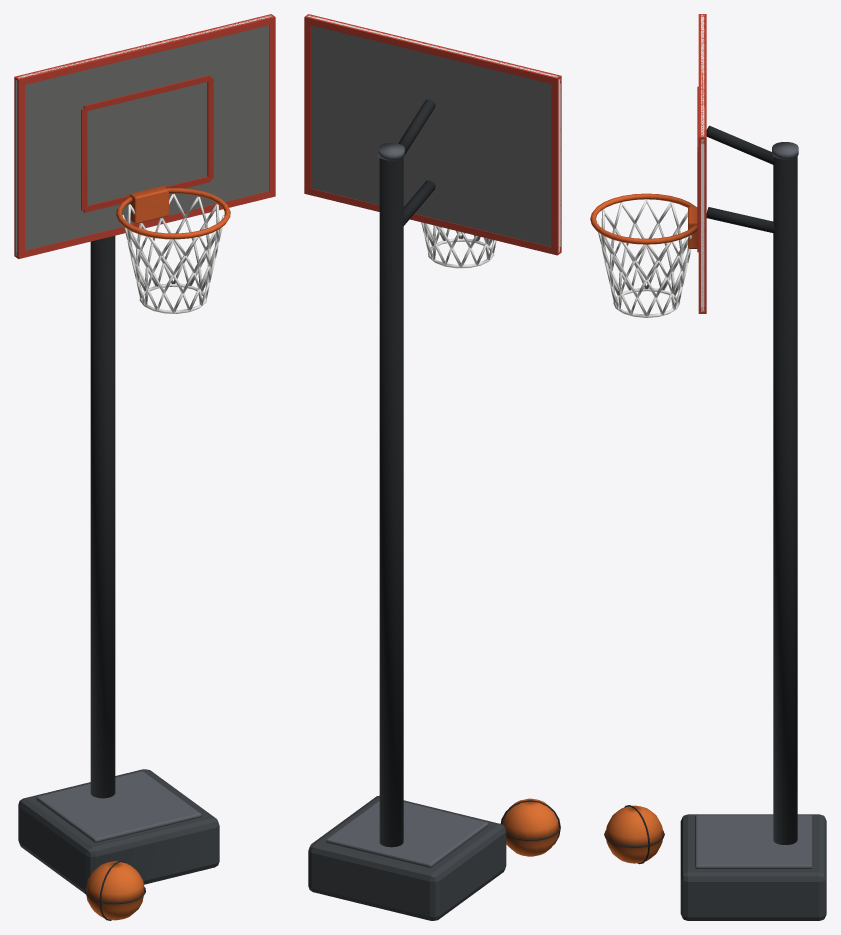
Rendered from basketballHoop.glb.
3 renders of one model, left to right at view 1: azimuth 30°, elevation 25°; view 2: azimuth 150°, elevation 25°; view 3: azimuth 270°, elevation 25°, orthographic.
Parts seen in each view (by area): view 1: hoop, net; view 2: hoop, net; view 3: hoop, net.
Part boxes in pixels (left/top/right/bottom): hoop: left=14, top=14, right=275, bottom=920; net: left=122, top=194, right=224, bottom=313; hoop: left=304, top=14, right=561, bottom=920; net: left=421, top=222, right=496, bottom=268; hoop: left=590, top=14, right=826, bottom=920; net: left=596, top=199, right=691, bottom=317.
Bounding box in the file's own units: 1.2 × 3.71 × 0.972.
